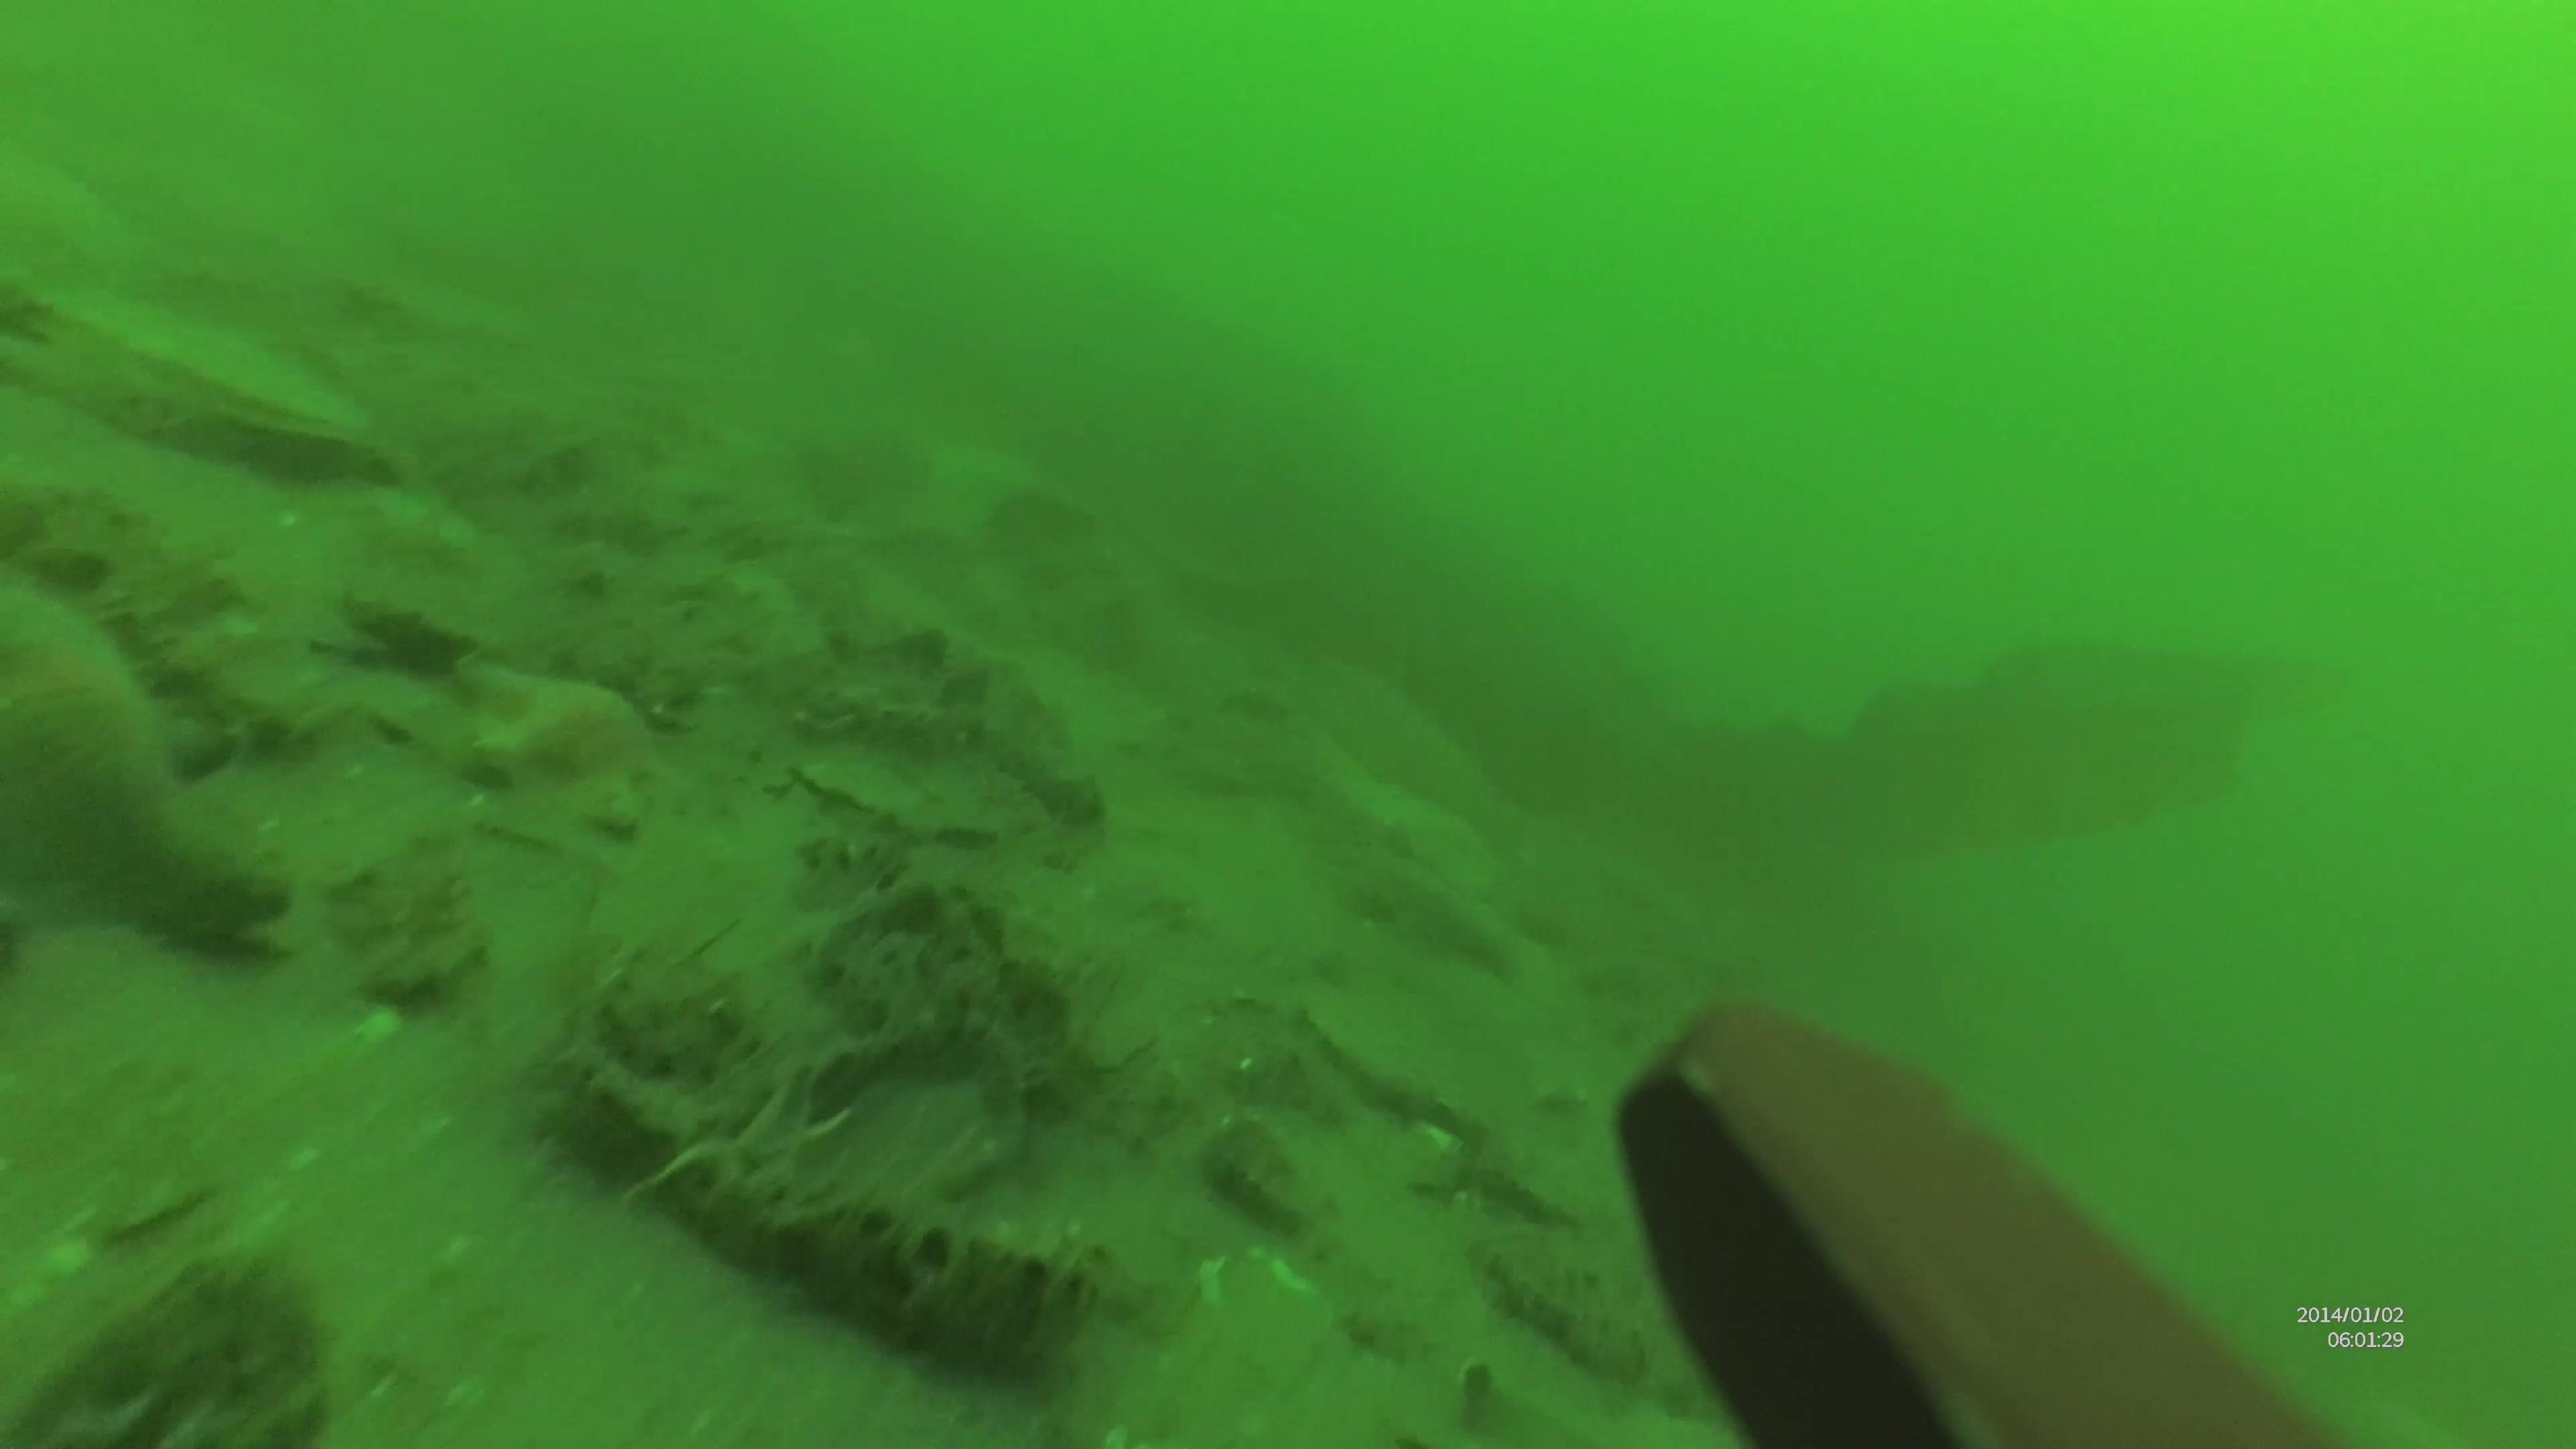scallop: (0, 237, 389, 483)
starfish: (5, 543, 290, 975), (456, 649, 667, 830)
